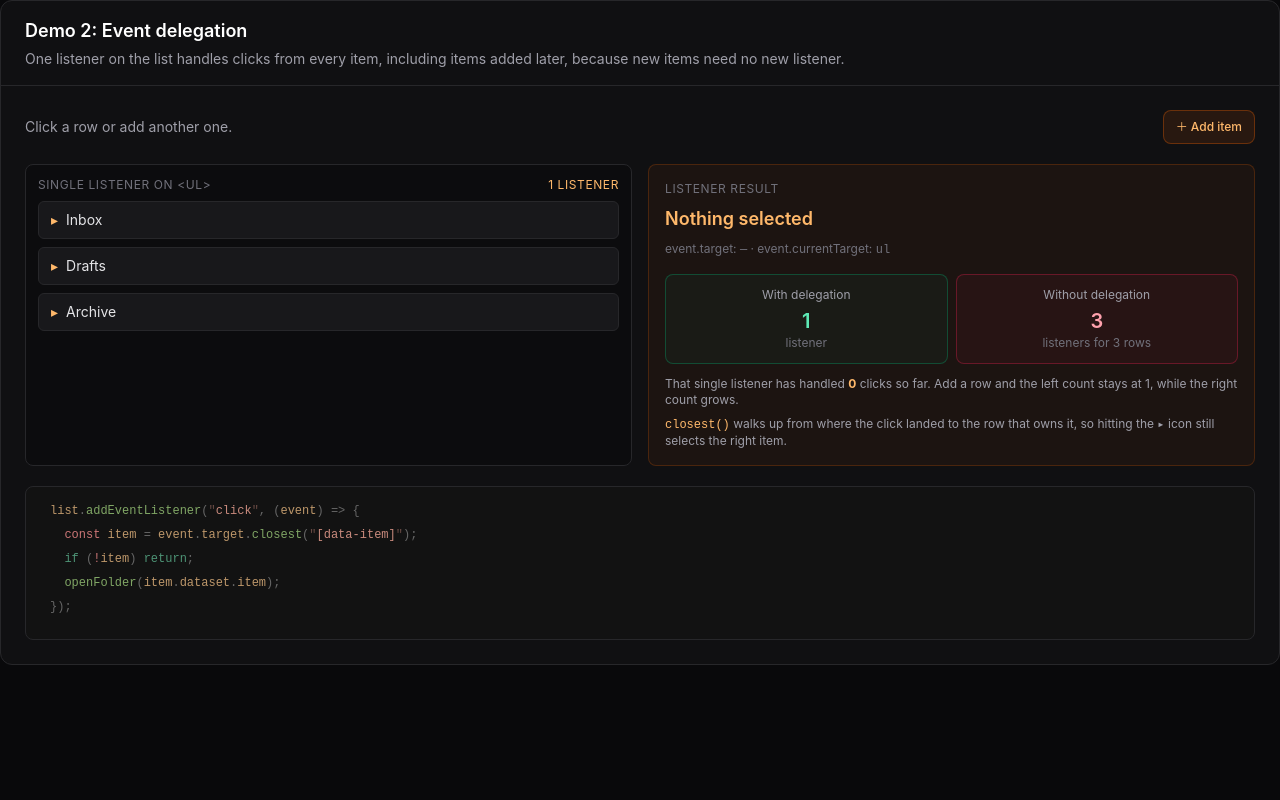
Test: EventDelegationDemo › selects the same row whether the icon or the label is clicked
Click the 1st text "▸" at [54, 220], box [51,211,58,228]
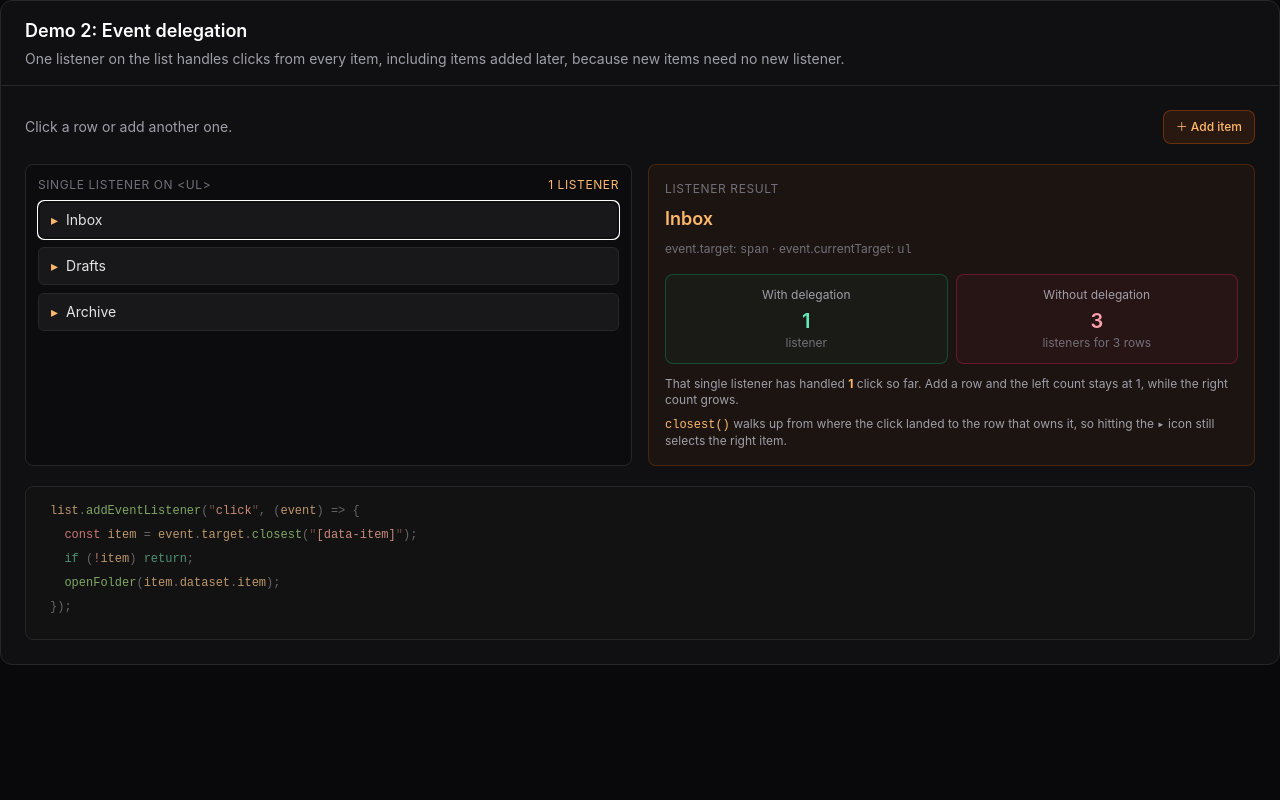
Expected: the text "Inbox" is shown, [665,208,713,229]
Expected: the text "event.target: span · event.currentTarget: ul" is shown, [665,241,912,257]
Click the button "▸Inbox" at [84, 220], box [38,201,619,239]
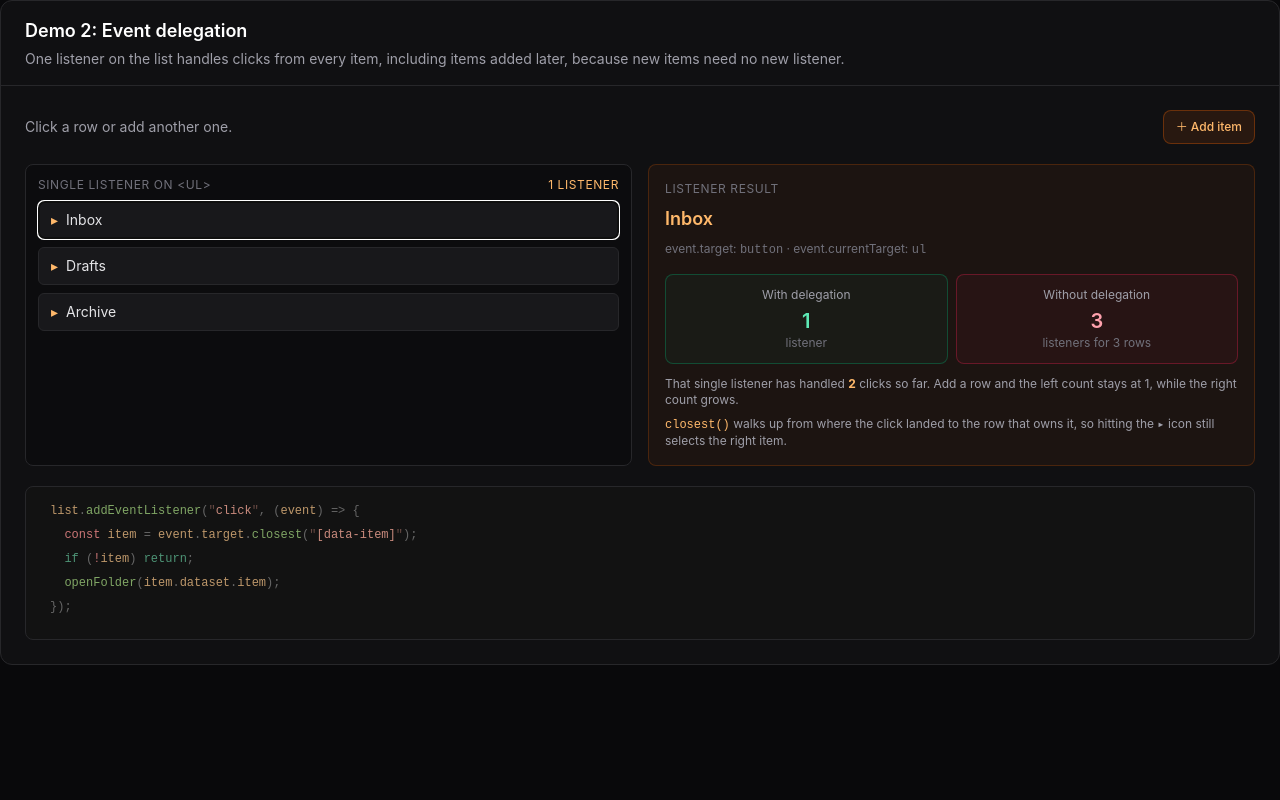
Expected: the text "Inbox" is shown, [665,208,713,229]
Expected: the text "event.target: button · event.currentTarget: ul" is shown, [665,241,926,257]
